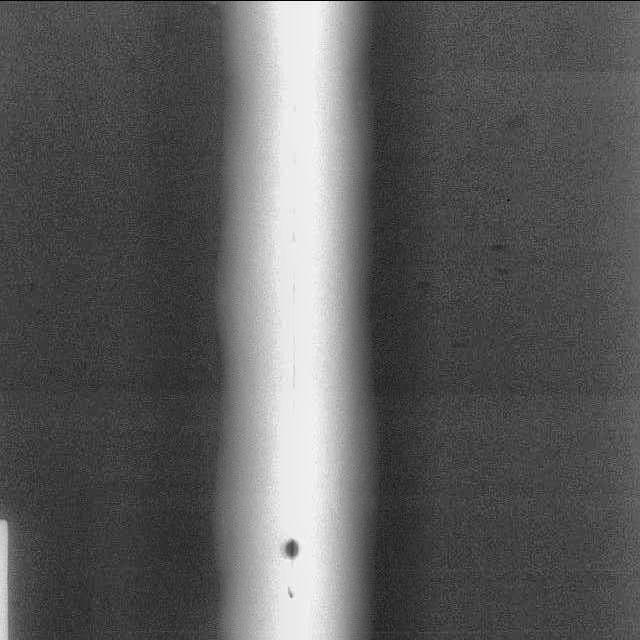Pore: (280, 528, 304, 572)
